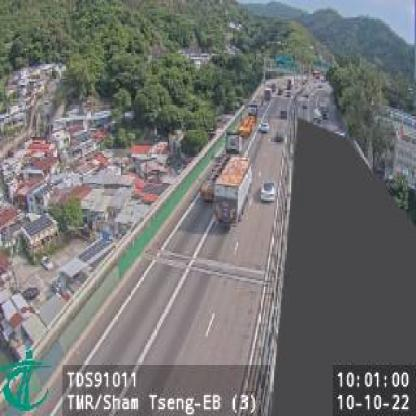Car: (258, 178, 275, 200), (274, 130, 285, 143), (261, 118, 271, 132)
Truck: (198, 130, 244, 201), (213, 154, 253, 226), (237, 100, 258, 138)
